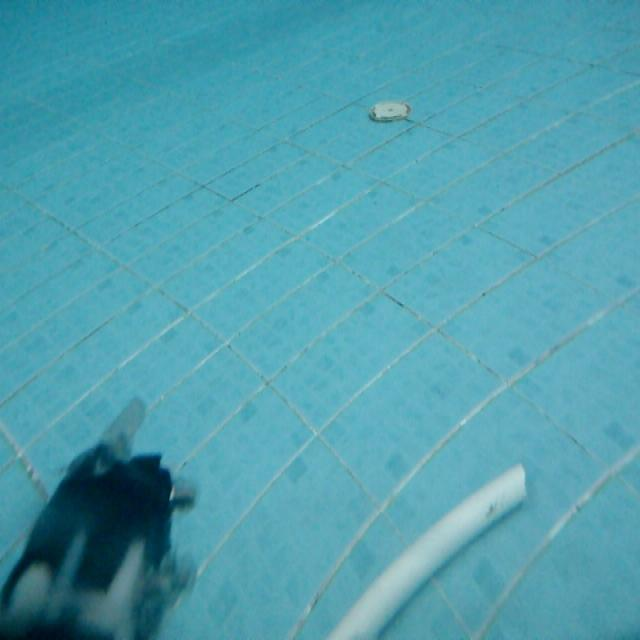Cube: (309, 457, 529, 639)
